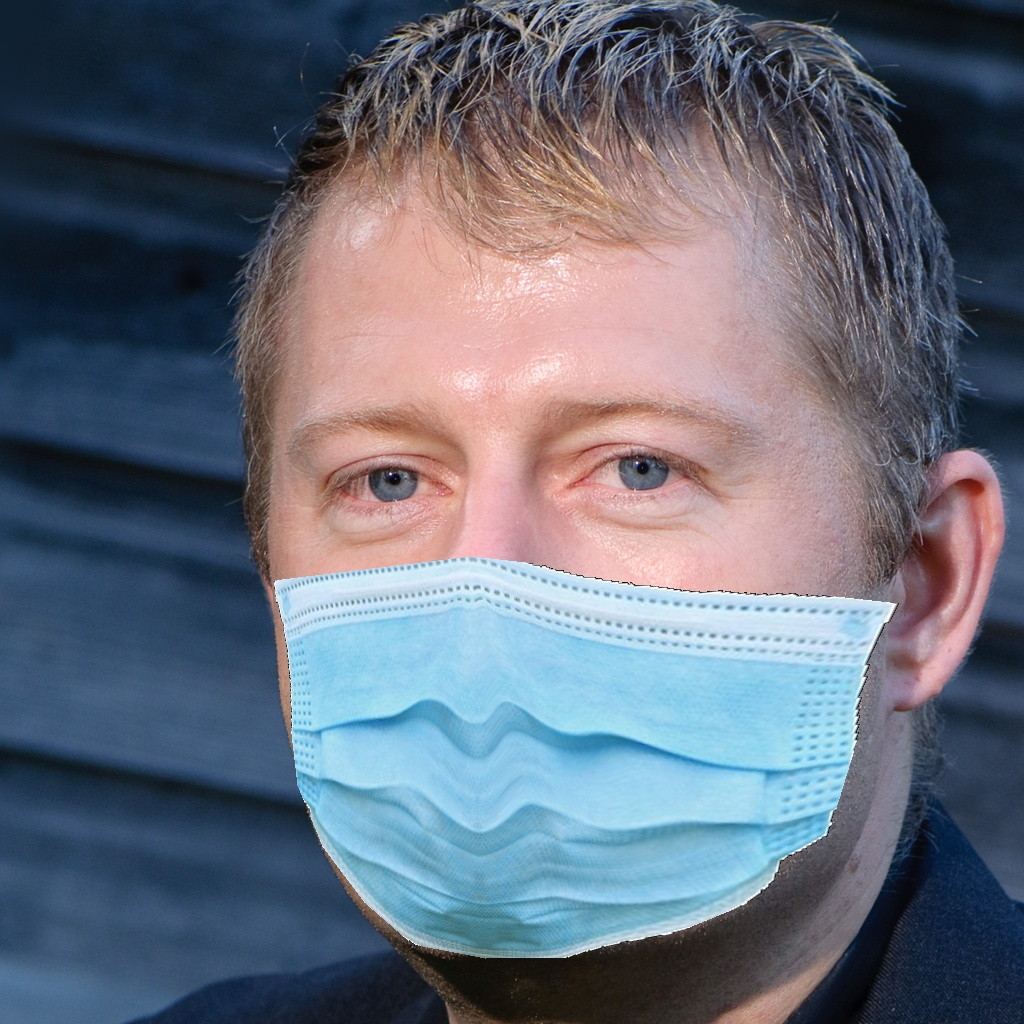with_mask: (261, 407, 875, 966)
